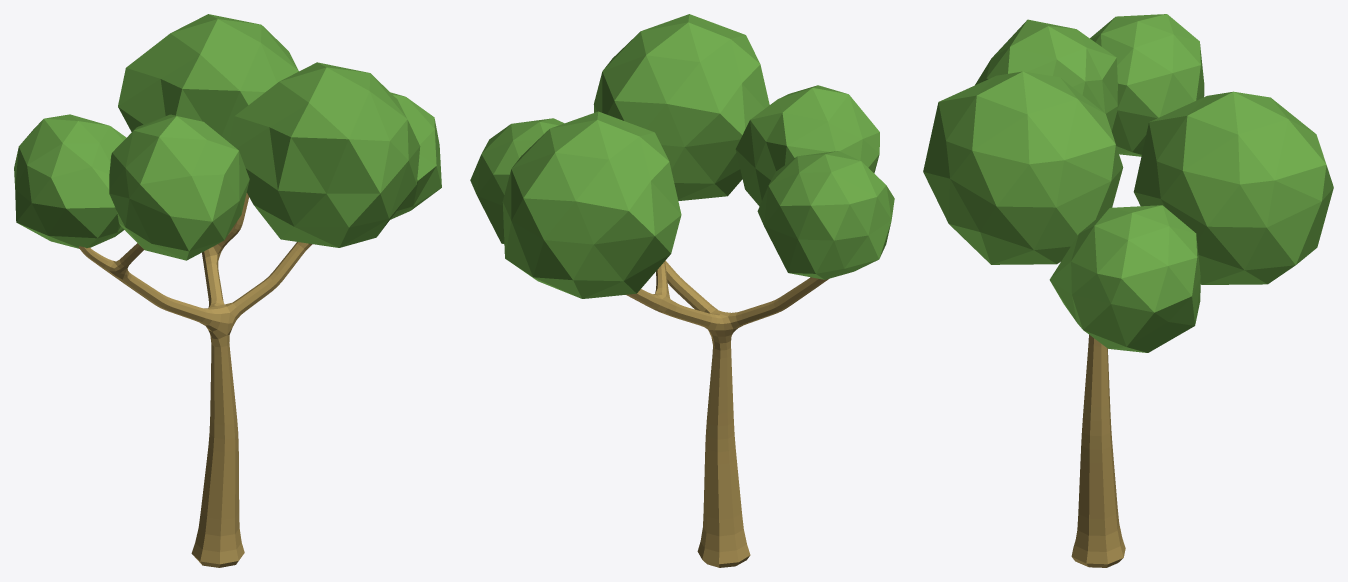
File: tree.glb
3 renders of one model, left to right at view 1: azimuth 30°, elevation 25°; view 2: azimuth 150°, elevation 25°; view 3: azimuth 270°, elevation 25°, orthographic. The views are drawn at different scales.
Visible parts, largest first — view 1: Icosphere.007, Icosphere.008, Icosphere.010, Plane, Icosphere.009, Icosphere.006; view 2: Icosphere.010, Icosphere.007, Icosphere.009, Plane, Icosphere.008, Icosphere.006; view 3: Icosphere.007, Icosphere.010, Icosphere.006, Icosphere.009, Plane, Icosphere.008.
Boxes of the visible parts, left/top/right/bottom form: Icosphere.007: left=229, top=62, right=420, bottom=247; Icosphere.008: left=109, top=114, right=249, bottom=260; Icosphere.010: left=118, top=14, right=298, bottom=141; Plane: left=79, top=193, right=312, bottom=567; Icosphere.009: left=14, top=114, right=126, bottom=248; Icosphere.006: left=390, top=92, right=441, bottom=219; Icosphere.010: left=502, top=111, right=681, bottom=298; Icosphere.007: left=593, top=14, right=769, bottom=200; Icosphere.009: left=757, top=151, right=894, bottom=279; Plane: left=626, top=260, right=828, bottom=567; Icosphere.008: left=735, top=85, right=879, bottom=206; Icosphere.006: left=470, top=118, right=564, bottom=243; Icosphere.007: left=923, top=71, right=1123, bottom=264; Icosphere.010: left=1133, top=91, right=1333, bottom=284; Icosphere.006: left=1049, top=205, right=1200, bottom=352; Icosphere.009: left=1090, top=14, right=1204, bottom=156; Plane: left=1071, top=335, right=1125, bottom=567; Icosphere.008: left=975, top=19, right=1117, bottom=130.
Size of the model in its own units: 12.58 by 14.72 by 10.41.
